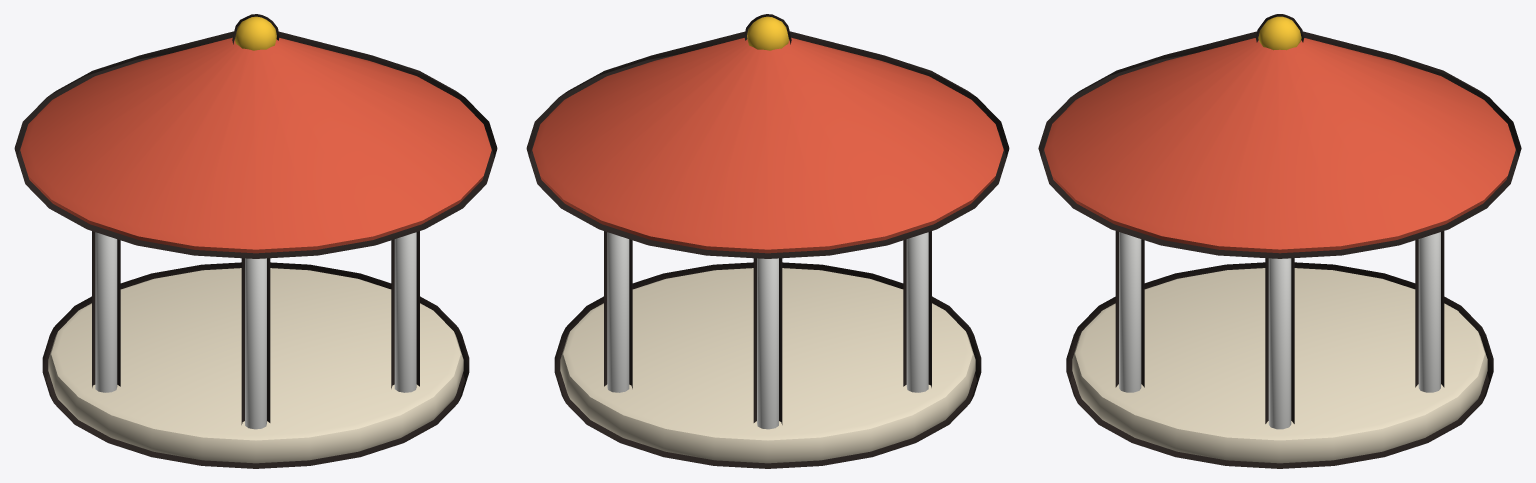
Rendered from Gazebo.fbx.
3 views of the same model, side by side, from view 1: azimuth 30°, elevation 25°; view 2: azimuth 150°, elevation 25°; view 3: azimuth 270°, elevation 25° (orthographic).
Parts seen in each view (by area): view 1: BL_Gazebo_RoofRed, BL_Gazebo_Sidewalk, BL_Gazebo_Outline, BL_Gazebo_White, BL_Gazebo_Yellow; view 2: BL_Gazebo_RoofRed, BL_Gazebo_Sidewalk, BL_Gazebo_Outline, BL_Gazebo_White, BL_Gazebo_Yellow; view 3: BL_Gazebo_RoofRed, BL_Gazebo_Sidewalk, BL_Gazebo_Outline, BL_Gazebo_White, BL_Gazebo_Yellow.
Part boxes in pixels (left/top/right/bottom): BL_Gazebo_RoofRed: left=20, top=37, right=491, bottom=253; BL_Gazebo_Sidewalk: left=48, top=268, right=463, bottom=463; BL_Gazebo_Outline: left=14, top=14, right=497, bottom=468; BL_Gazebo_White: left=95, top=232, right=416, bottom=429; BL_Gazebo_Yellow: left=235, top=16, right=276, bottom=50; BL_Gazebo_RoofRed: left=532, top=37, right=1003, bottom=253; BL_Gazebo_Sidewalk: left=560, top=268, right=975, bottom=463; BL_Gazebo_Outline: left=526, top=14, right=1009, bottom=468; BL_Gazebo_White: left=607, top=232, right=928, bottom=429; BL_Gazebo_Yellow: left=747, top=16, right=788, bottom=50; BL_Gazebo_RoofRed: left=1044, top=38, right=1515, bottom=253; BL_Gazebo_Sidewalk: left=1072, top=268, right=1487, bottom=463; BL_Gazebo_Outline: left=1038, top=14, right=1521, bottom=468; BL_Gazebo_White: left=1119, top=232, right=1440, bottom=429; BL_Gazebo_Yellow: left=1258, top=16, right=1301, bottom=50.
Size of the model in its own units: 5.59 by 4.7 by 5.59.
